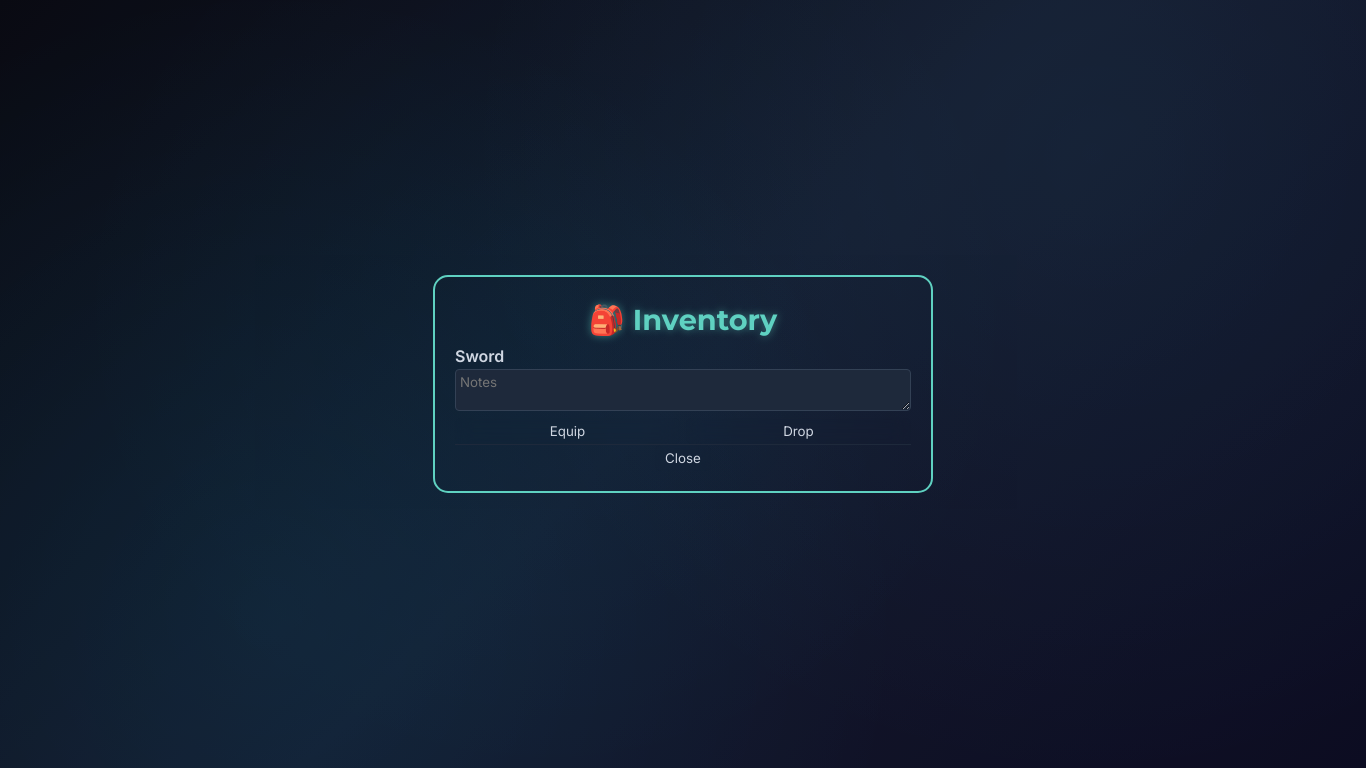
Scenario: InventoryModal › allows toggling equipment state
Click the button "Equip" at (568, 431), box [455,418,680,444]
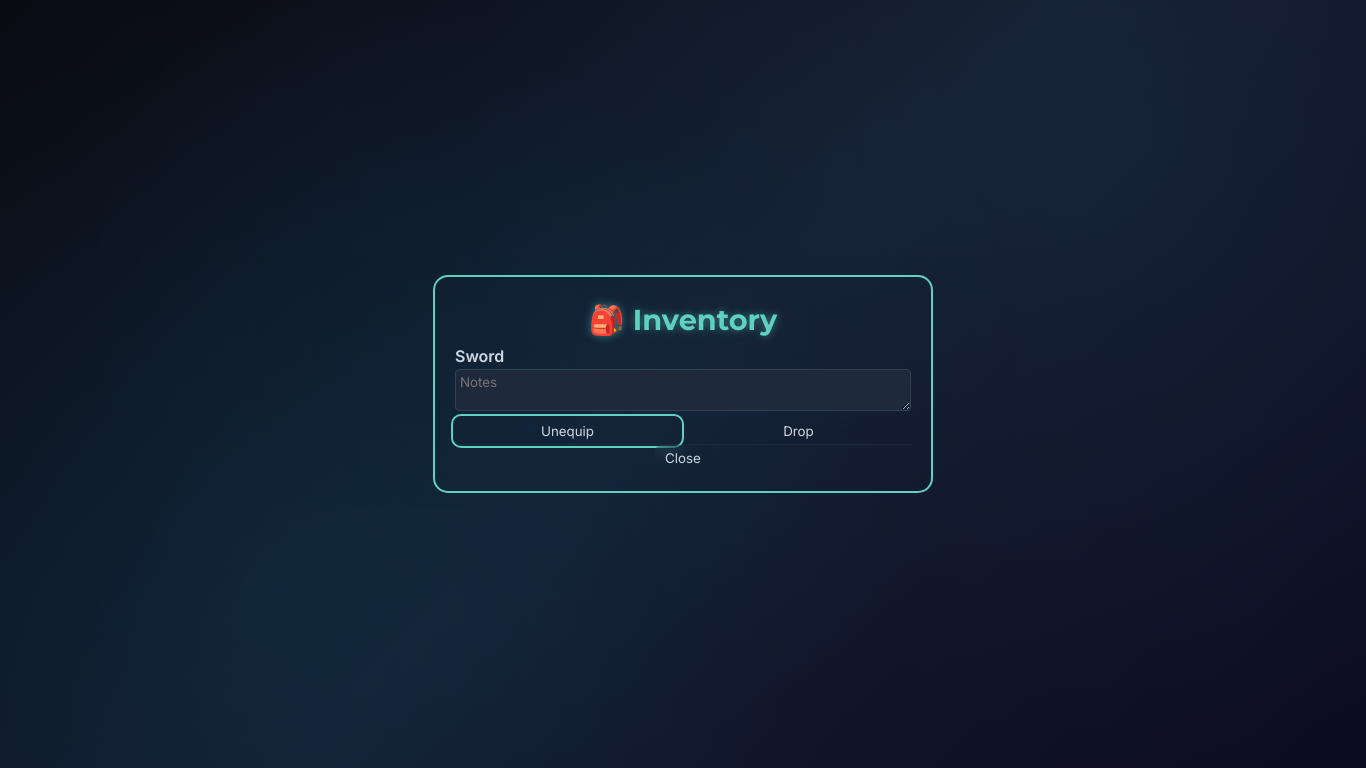
expect the button "Unequip" is shown: met, box [455,418,680,444]
